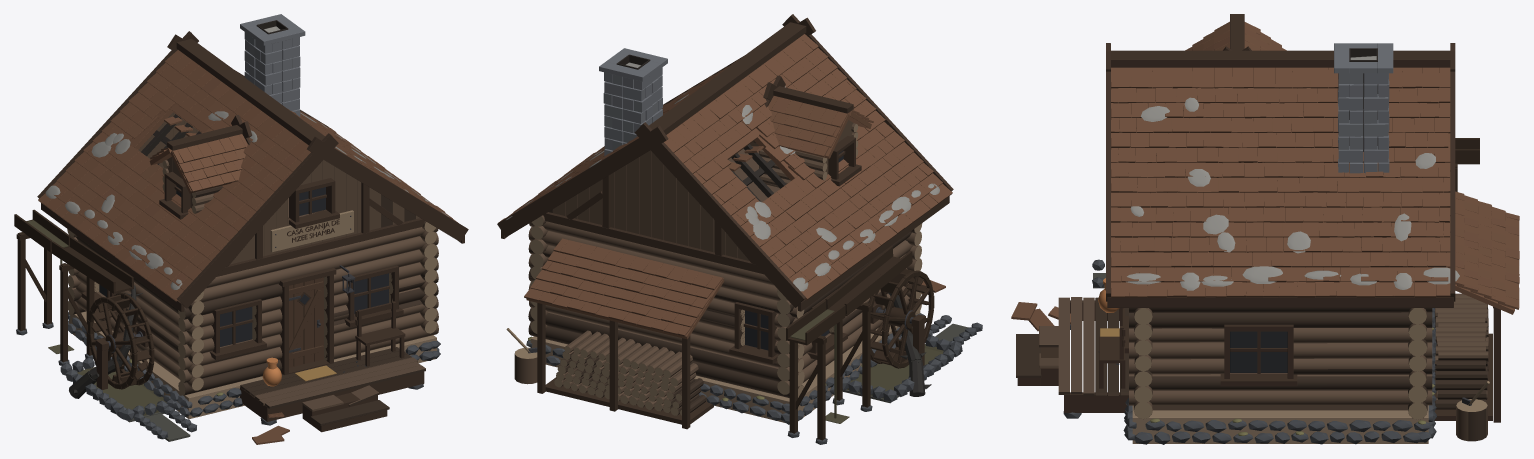
File: casa_granja_ruina.glb
3 renders of one model, left to right at view 1: azimuth 30°, elevation 25°; view 2: azimuth 150°, elevation 25°; view 3: azimuth 270°, elevation 25°, orthographic. The views are drawn at different scales.
Parts seen in each view (by area): view 1: CasaGranja, RuedaMolino, AguaGranja; view 2: CasaGranja, RuedaMolino, AguaGranja; view 3: CasaGranja.
Boxes of the visible parts, x1=… form: CasaGranja: x1=14, y1=14, x2=468, y2=444; RuedaMolino: x1=88, y1=292, x2=154, y2=389; AguaGranja: x1=27, y1=220, x2=166, y2=415; CasaGranja: x1=497, y1=14, x2=982, y2=444; RuedaMolino: x1=868, y1=269, x2=934, y2=368; AguaGranja: x1=790, y1=309, x2=943, y2=423; CasaGranja: x1=1011, y1=14, x2=1519, y2=444.
Bounding box in the file's own units: 6.58 × 5.43 × 7.04.
